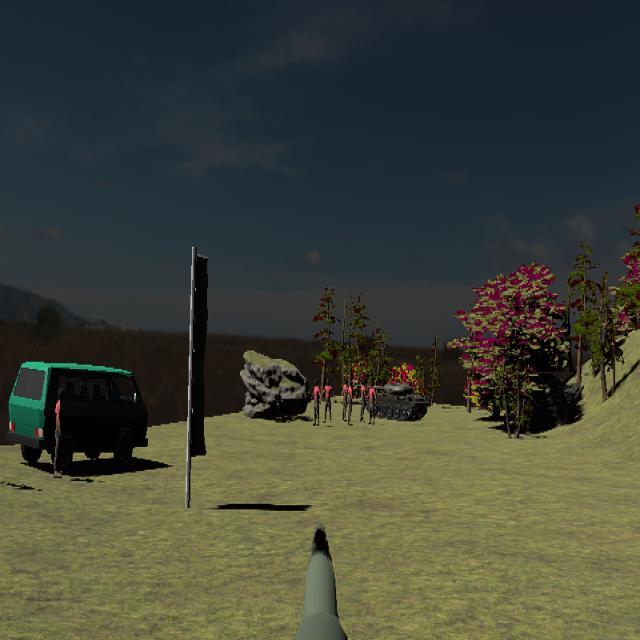Human: (53, 389, 63, 479), (321, 378, 336, 423), (311, 378, 322, 427), (366, 379, 377, 426), (357, 378, 367, 423), (345, 378, 354, 423)
Tank: (370, 381, 429, 422)
car: (7, 360, 149, 471)
